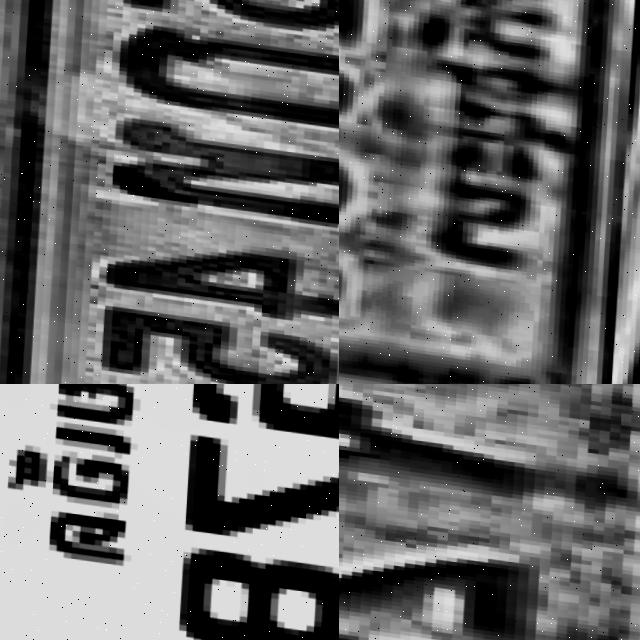license-plate: (0, 0, 339, 384), (339, 0, 628, 384), (0, 384, 339, 640), (339, 384, 640, 640)
